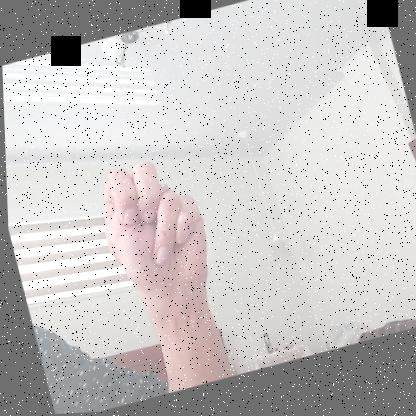N: (84, 146, 221, 319)
